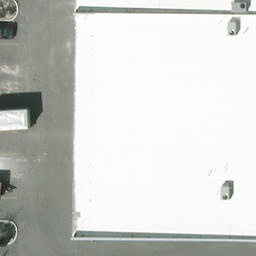car: (0, 22, 20, 40)
truck: (0, 109, 33, 133)
